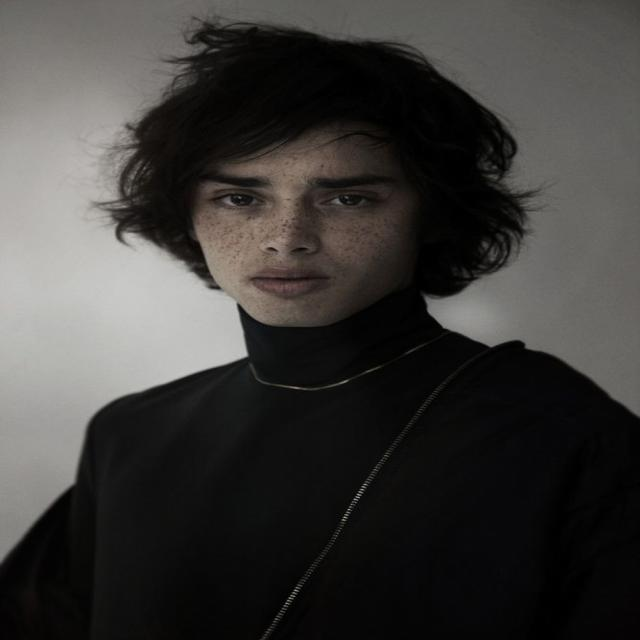earlobe: (185, 223, 199, 241)
eye: (215, 193, 262, 207), (322, 194, 372, 207)
nose: (259, 244, 314, 270)
